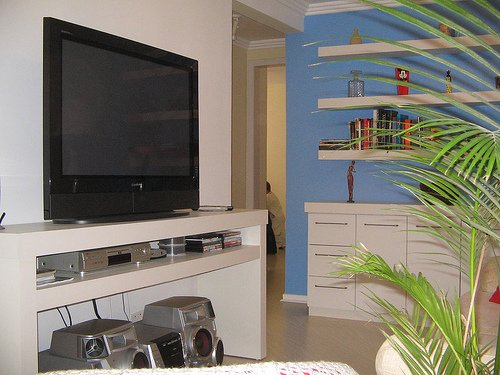tv: (46, 20, 200, 220)
